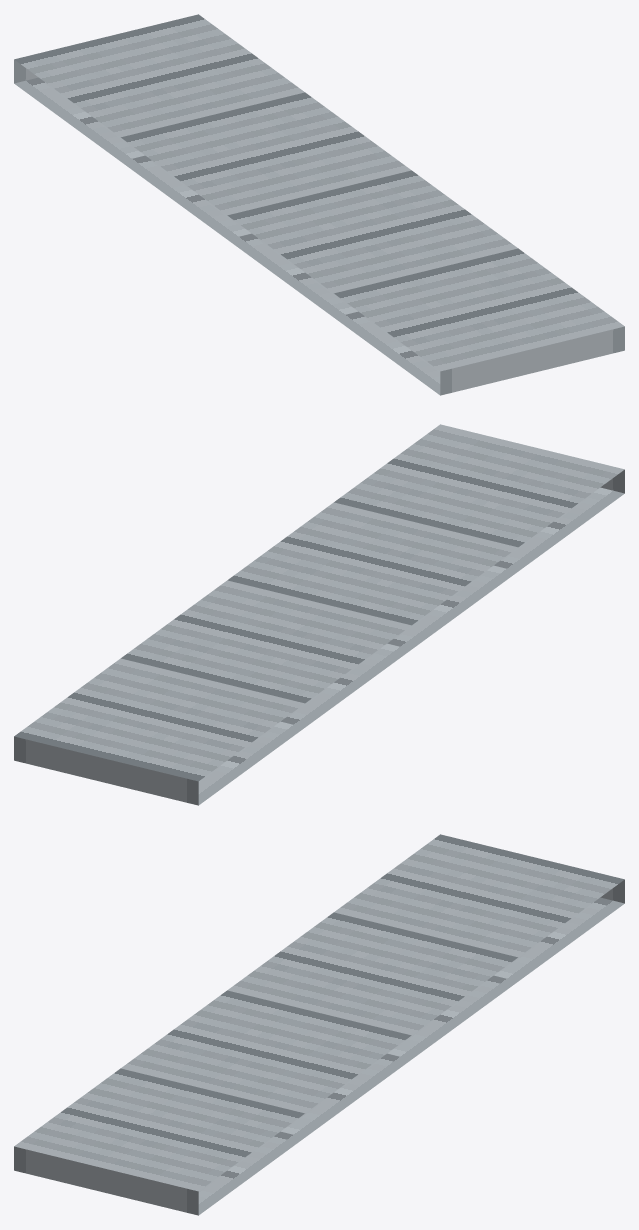
Rendered from commercial_run_4.obj.
3 views of the same model, one above another, from view 1: azimuth 30°, elevation 25°; view 2: azimuth 150°, elevation 25°; view 3: azimuth 330°, elevation 25° (orthographic).
Parts seen in each view (by area): view 1: run; view 2: run; view 3: run.
Boxes of the visible parts, x1=… form: run: x1=14, y1=14, x2=624, y2=395; run: x1=14, y1=424, x2=624, y2=805; run: x1=14, y1=834, x2=624, y2=1215.
Bounding box in the file's own units: 1 × 0.125 × 4.
